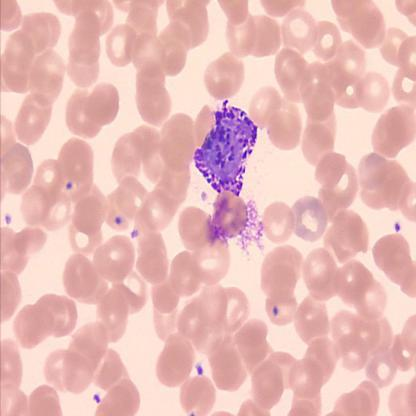Basophil: (193, 97, 259, 199)
